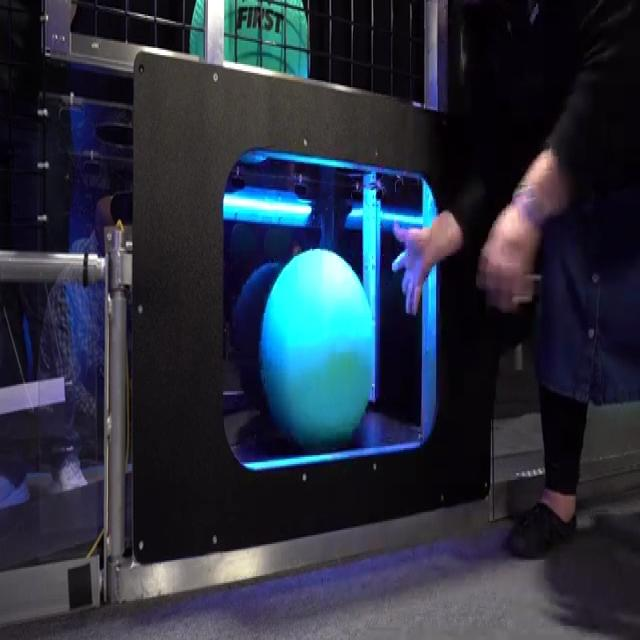Algae: (257, 245, 375, 450), (189, 0, 312, 82)
